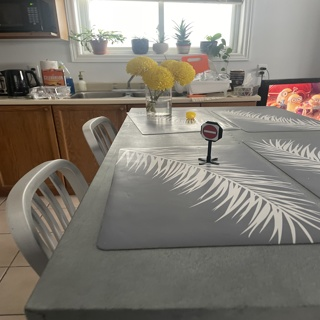sign_noentry: (198, 120, 216, 140)
